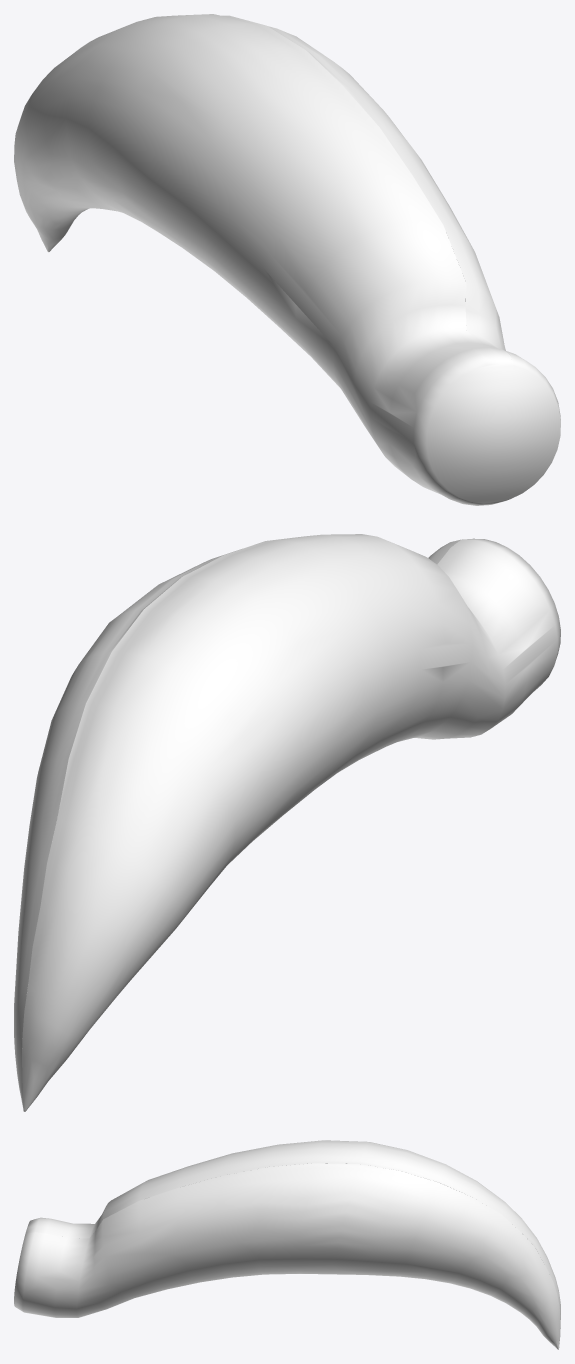
The model's file is hk_arm_right1_iselda.obj.
The picture shows the model from 3 angles, top to bottom: view 1: azimuth 30°, elevation 25°; view 2: azimuth 150°, elevation 25°; view 3: azimuth 270°, elevation 25°; orthographic projection. The views are drawn at different scales.
Visible parts, largest first — view 1: Object_70_HeadIselda; view 2: Object_70_HeadIselda; view 3: Object_70_HeadIselda.
Boxes of the visible parts, x1,y1,x2,y2 form: Object_70_HeadIselda: [14, 14, 560, 505]; Object_70_HeadIselda: [14, 534, 560, 1111]; Object_70_HeadIselda: [14, 1140, 560, 1349].
Size of the model in its own units: 0.0639 by 0.1007 by 0.2408.
